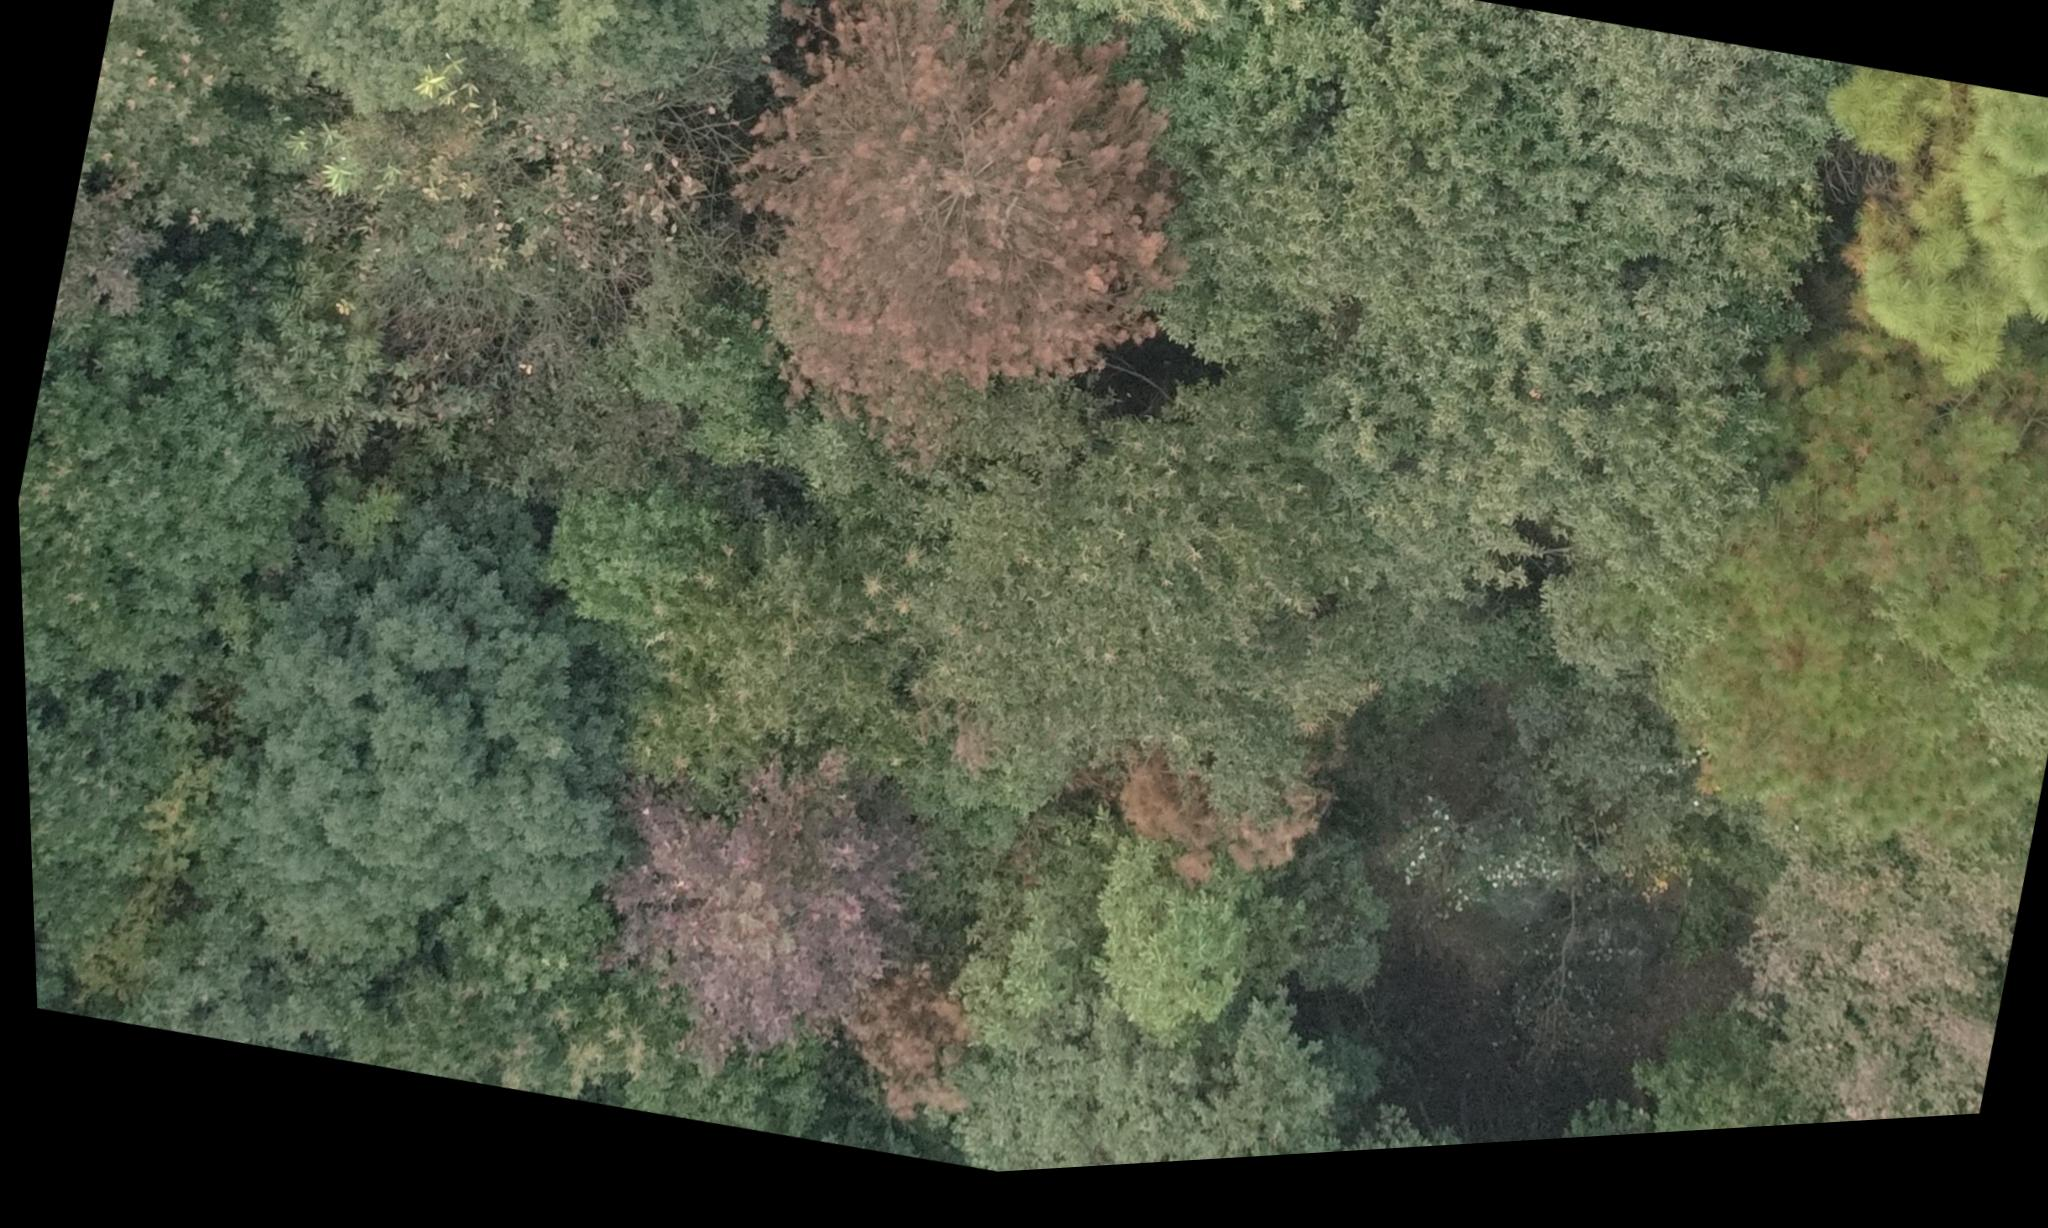heavy: (687, 0, 1232, 523), (1080, 729, 1326, 947), (819, 943, 993, 1155)
light: (1672, 365, 2048, 871)
